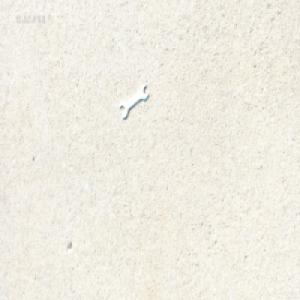Wrench: (119, 82, 149, 118)
